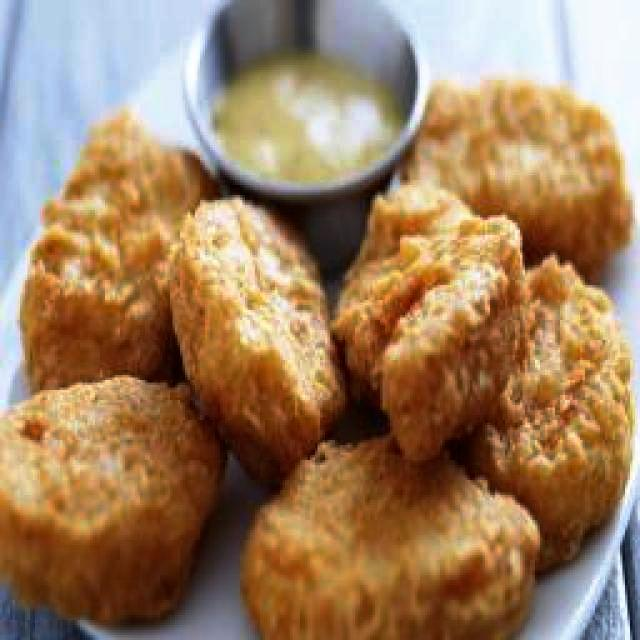chicken_nuggets: (0, 84, 635, 640), (242, 434, 541, 640), (14, 112, 221, 386), (0, 375, 224, 626), (334, 186, 536, 462), (469, 256, 632, 583), (171, 197, 343, 482), (416, 81, 632, 279)
